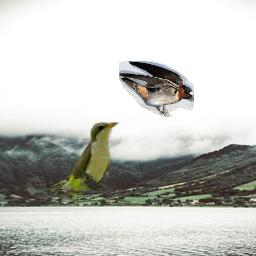Cuckoo: (51, 120, 120, 201)
Swallow: (119, 61, 194, 117)
